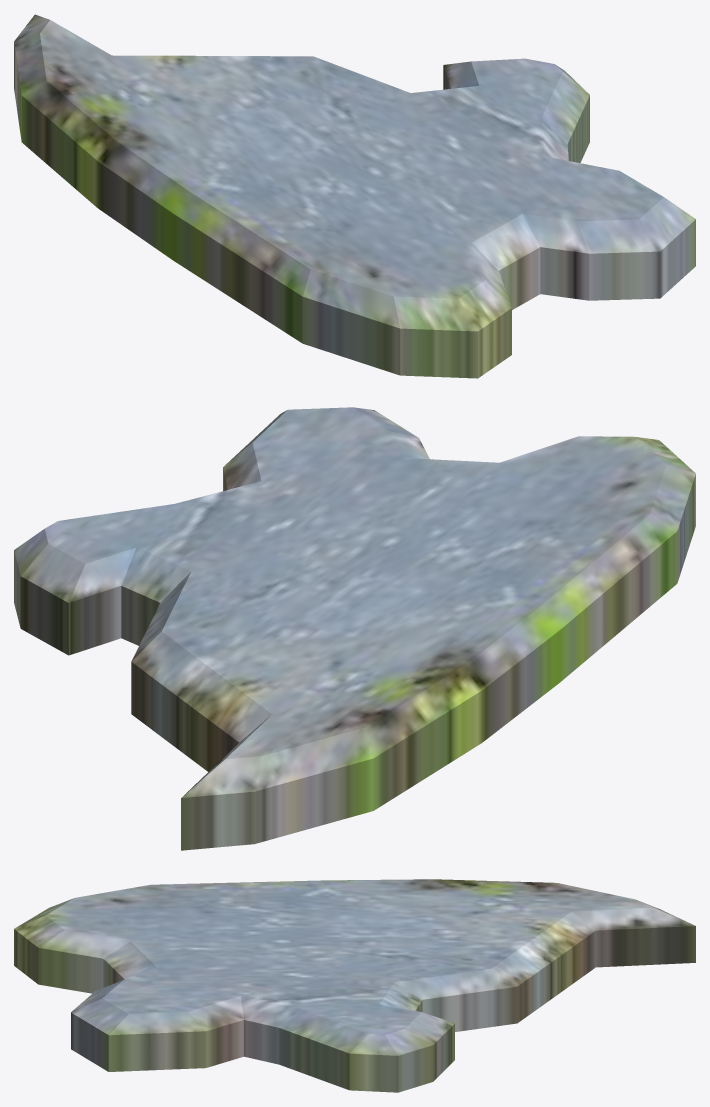
The model's file is stone.11.fbx.
The picture shows the model from 3 angles, top to bottom: view 1: azimuth 30°, elevation 25°; view 2: azimuth 150°, elevation 25°; view 3: azimuth 270°, elevation 25°; orthographic projection. The views are drawn at different scales.
Parts seen in each view (by area): view 1: stone.11; view 2: stone.11; view 3: stone.11.
Boxes of the visible parts, x1,y1,x2,y2 form: stone.11: [14, 14, 695, 378]; stone.11: [14, 407, 695, 850]; stone.11: [14, 879, 695, 1092].
Size of the model in its own units: 69.88 by 9.74 by 119.
1 material, 1 textured.
